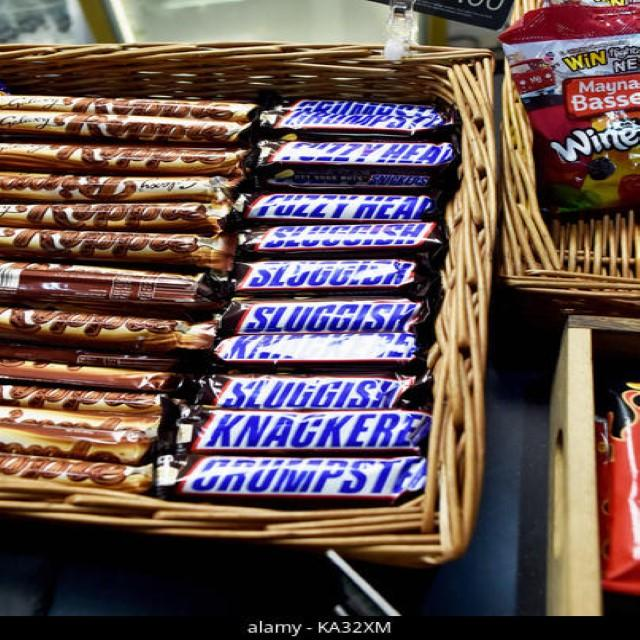snickers_chocolate: (266, 88, 482, 148), (253, 126, 472, 182), (195, 452, 415, 503), (177, 408, 413, 455), (183, 368, 407, 407), (204, 255, 454, 287), (237, 188, 450, 222), (234, 225, 458, 255), (218, 298, 427, 328), (193, 340, 415, 365)
